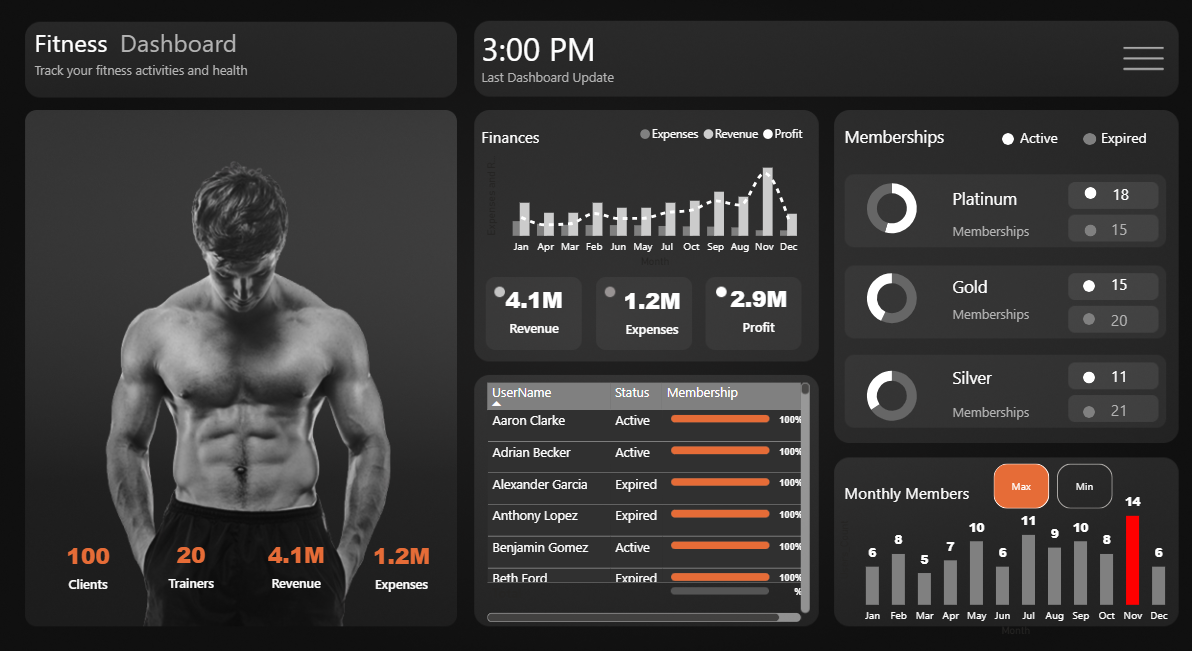

What the dashboard file says about the page in this screenshot:
{"tool":"powerbi","page":{"name":"Page 2","canvas":[1280,720],"ordinal":0},"visuals":[{"type":"card","fields":{"Values":["_Measures.Users_Count"]},"box":[51.6,566.7,110.6,79.3],"z":0},{"type":"card","fields":{"Values":["Count(Users.Trainer Name)"]},"box":[160.2,566.3,110,80],"z":1000},{"type":"card","fields":{"Values":["_Measures.Expenses"]},"box":[377.9,566,110.6,81.1],"z":2000},{"type":"card","fields":{"Values":["_Measures.Revenue"]},"box":[268.1,566.3,110,80],"z":3000},{"type":"card","fields":{"Values":["_Measures.Expenses"]},"box":[639.7,300.5,110.6,81.1],"z":4000},{"type":"card","fields":{"Values":["_Measures.Revenue"]},"box":[518,300.5,108.8,79.3],"z":5000},{"type":"card","fields":{"Values":["_Measures.Profit"]},"box":[750.2,298.5,111,81.3],"z":6000},{"type":"lineClusteredColumnComboChart","fields":{"Category":["Calender.Month"],"Y":["_Measures.Expenses","_Measures.Revenue"],"Y2":["_Measures.Profit"]},"box":[517.3,137.5,343.9,162.6],"z":7000},{"type":"shape","box":[517.3,137.5,150,45.3],"z":8000},{"type":"clusteredColumnChart","fields":{"Y":["_Measures.Users_Count"],"Category":["Calender.Month"]},"box":[884.7,518.9,361.1,165.7],"z":9000},{"type":"shape","box":[895.6,508,150,45.3],"z":10000},{"type":"advancedSlicerVisual","fields":{"Values":["Min_Max_Switch.Type"]},"box":[1045.6,495.5,136,57.8],"z":11000},{"type":"tableEx","fields":{"Values":["Users.UserName","Users.Status","_Measures.SVG_BarChart1"]},"box":[517.3,411.1,347,259.5],"z":12000},{"type":"shape","box":[1008.1,392.3,148.5,37.5],"z":13000},{"type":"shape","box":[1008.1,298.5,148.5,34.4],"z":14000},{"type":"shape","box":[1008.1,206.3,148.5,35.9],"z":15000},{"type":"shape","box":[1008.1,429.8,148.5,32.8],"z":16000},{"type":"shape","box":[1008.1,332.9,148.5,23.4],"z":17000},{"type":"shape","box":[1008.1,242.3,148.5,31.3],"z":18000},{"type":"donutChart","fields":{"Y":["_Measures.User_Silver"],"Category":["Users.Status"]},"box":[884.7,392.3,120,75],"z":19000},{"type":"donutChart","fields":{"Y":["_Measures.User_Platinum"],"Category":["Users.Status"]},"box":[884.7,196.9,120,75],"z":20000},{"type":"donutChart","fields":{"Y":["_Measures.User_Gold"],"Category":["Users.Status"]},"box":[884.7,290.7,120,75],"z":21000},{"type":"card","fields":{"Values":["_Measures.Platinum_Active"]},"box":[1158.2,196.9,50,50],"z":22000},{"type":"card","fields":{"Values":["_Measures.Platinum_Expired"]},"box":[1156.6,232.9,50,50],"z":23000},{"type":"card","fields":{"Values":["_Measures.Gold_Active"]},"box":[1156.6,290.7,50,50],"z":24000},{"type":"card","fields":{"Values":["_Measures.Gold_Expired"]},"box":[1156.6,328.2,50,50],"z":25000},{"type":"card","fields":{"Values":["_Measures.Silver_Active"]},"box":[1156.6,386.1,50,50],"z":26000},{"type":"card","fields":{"Values":["_Measures.Silver_Expired"]},"box":[1156.6,422,50,50],"z":27000},{"type":"shape","box":[1145.7,212.6,12.5,12.5],"z":28000},{"type":"shape","box":[1145.7,251.6,12.5,12.5],"z":29000},{"type":"shape","box":[1144.1,343.9,12.5,12.5],"z":30000},{"type":"shape","box":[1144.1,309.5,12.5,12.5],"z":31000},{"type":"shape","box":[1144.1,440.8,12.5,12.5],"z":32000},{"type":"shape","box":[1144.1,404.8,12.5,12.5],"z":33000},{"type":"shape","box":[895.6,137.5,150,45.3],"z":34000},{"type":"shape","box":[1059.7,156.3,12.5,12.5],"z":35000},{"type":"shape","box":[1144.1,156.3,14.1,12.5],"z":36000},{"type":"shape","box":[1078.5,142.2,79.7,35.9],"z":37000},{"type":"shape","box":[1162.9,142.2,92.2,35.9],"z":38000},{"type":"shape","box":[51.6,39.1,150,45.3],"z":39000},{"type":"shape","box":[140.7,39.1,150,45.3],"z":40000},{"type":"shape","box":[51.6,62.5,239.1,54.7],"z":41000},{"type":"image","box":[1181.6,50,53.1,59.4],"z":42000},{"type":"shape","box":[517.3,45.3,150,45.3],"z":43000},{"type":"shape","box":[517.3,70.3,239.1,54.7],"z":44000}]}

Visuals, with their boxes in screenshot pixels (x1, y1, x2, y2), scaled from the page's 1280x720 canvas onto the 1192x651 screenshot:
card - _Measures.Users_Count: detection(48, 512, 151, 584)
card - Count(Users.Trainer Name): detection(149, 512, 252, 584)
card - _Measures.Expenses: detection(352, 512, 455, 585)
card - _Measures.Revenue: detection(250, 512, 352, 584)
card - _Measures.Expenses: detection(596, 272, 699, 345)
card - _Measures.Revenue: detection(482, 272, 584, 343)
card - _Measures.Profit: detection(699, 270, 802, 343)
lineClusteredColumnComboChart - Calender.Month x _Measures.Expenses: detection(482, 124, 802, 271)
shape: detection(482, 124, 621, 165)
clusteredColumnChart - _Measures.Users_Count x Calender.Month: detection(824, 469, 1160, 619)
shape: detection(834, 459, 974, 500)
advancedSlicerVisual - Min_Max_Switch.Type: detection(974, 448, 1100, 500)
tableEx - Users.UserName x Users.Status: detection(482, 372, 805, 606)
shape: detection(939, 355, 1077, 389)
shape: detection(939, 270, 1077, 301)
shape: detection(939, 187, 1077, 219)
shape: detection(939, 389, 1077, 418)
shape: detection(939, 301, 1077, 322)
shape: detection(939, 219, 1077, 247)
donutChart - _Measures.User_Silver x Users.Status: detection(824, 355, 936, 423)
donutChart - _Measures.User_Platinum x Users.Status: detection(824, 178, 936, 246)
donutChart - _Measures.User_Gold x Users.Status: detection(824, 263, 936, 331)
card - _Measures.Platinum_Active: detection(1079, 178, 1125, 223)
card - _Measures.Platinum_Expired: detection(1077, 211, 1124, 256)
card - _Measures.Gold_Active: detection(1077, 263, 1124, 308)
card - _Measures.Gold_Expired: detection(1077, 297, 1124, 342)
card - _Measures.Silver_Active: detection(1077, 349, 1124, 394)
card - _Measures.Silver_Expired: detection(1077, 382, 1124, 427)
shape: detection(1067, 192, 1079, 204)
shape: detection(1067, 227, 1079, 239)
shape: detection(1065, 311, 1077, 322)
shape: detection(1065, 280, 1077, 291)
shape: detection(1065, 399, 1077, 410)
shape: detection(1065, 366, 1077, 377)
shape: detection(834, 124, 974, 165)
shape: detection(987, 141, 998, 153)
shape: detection(1065, 141, 1079, 153)
shape: detection(1004, 129, 1079, 161)
shape: detection(1083, 129, 1169, 161)
shape: detection(48, 35, 188, 76)
shape: detection(131, 35, 271, 76)
shape: detection(48, 57, 271, 106)
image: detection(1100, 45, 1150, 99)
shape: detection(482, 41, 621, 82)
shape: detection(482, 64, 704, 113)
